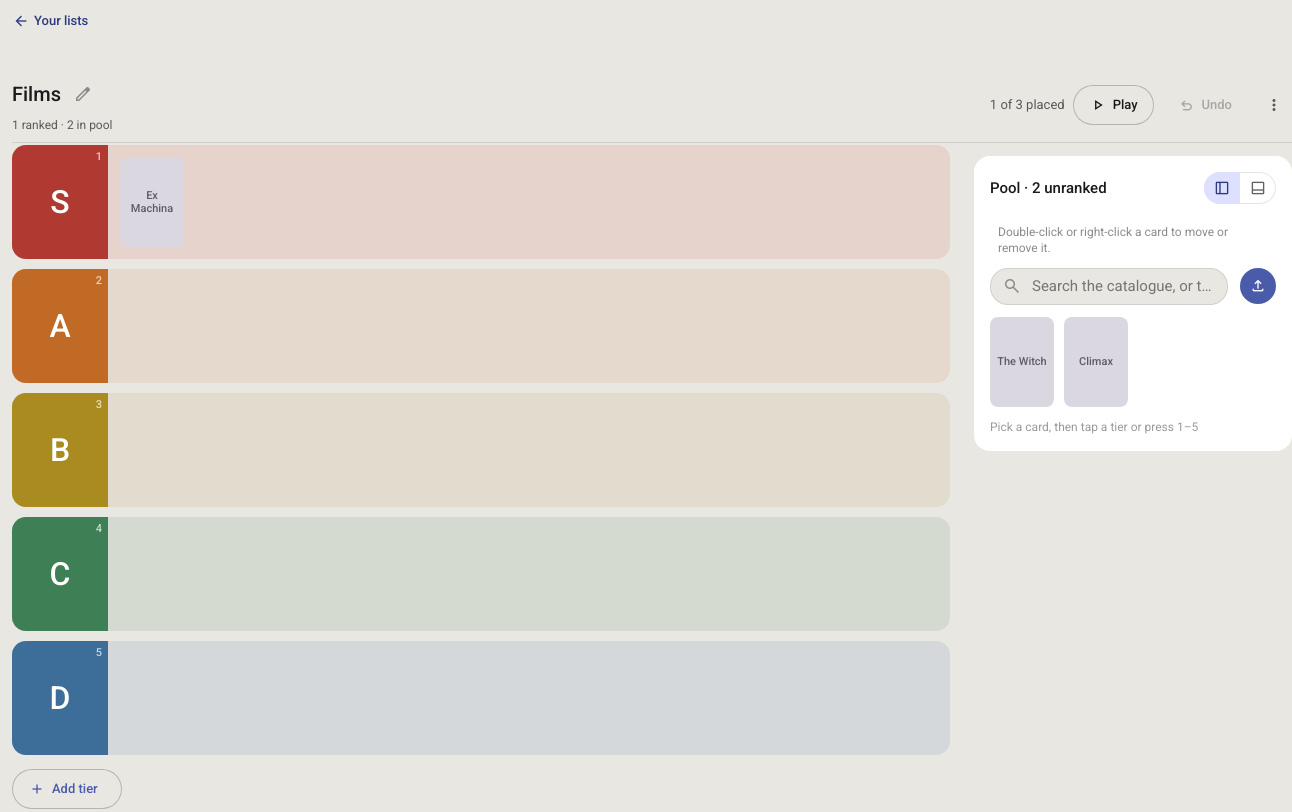
Test: BoardPage › renames the board where it stands
Click the button named "Edit list name": x=83, y=94 [65, 76, 101, 112]
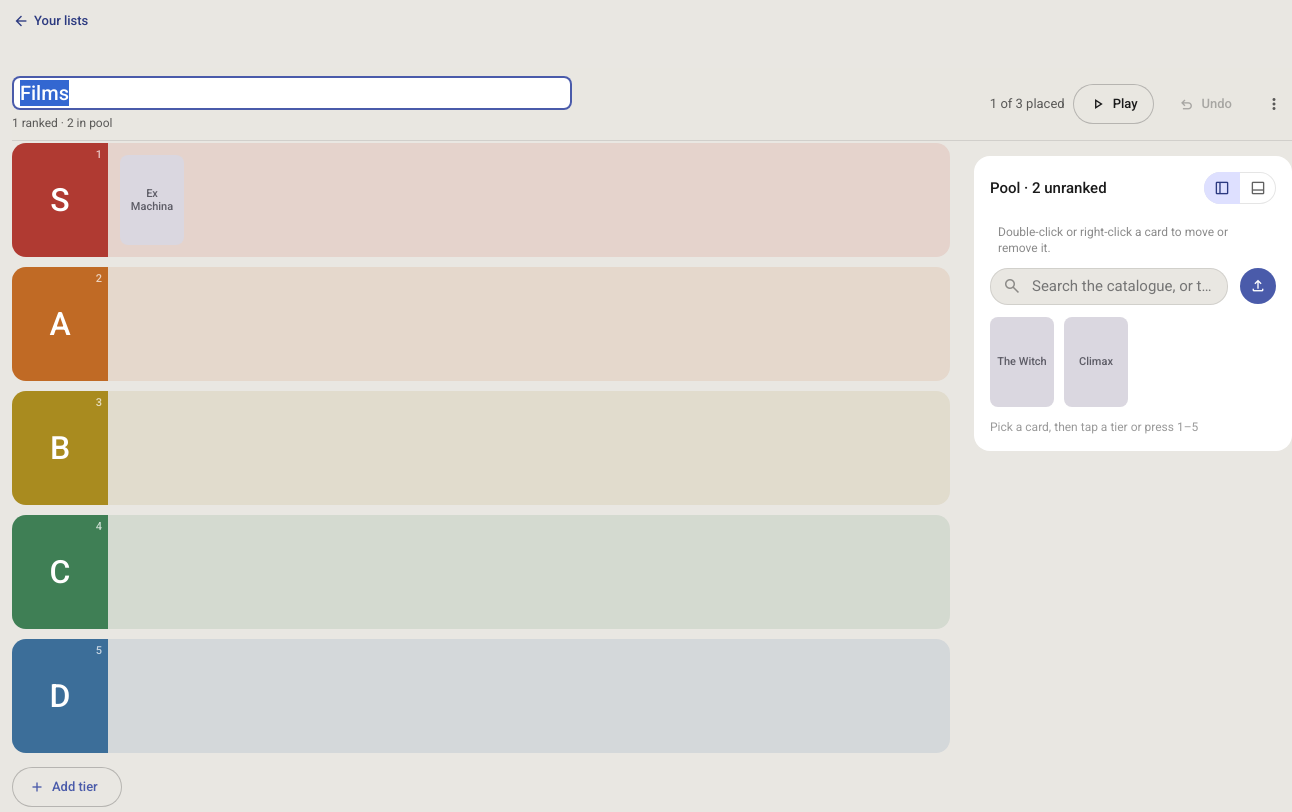
Replace the text in the field named "Title" with "Films I make people watch": x=292, y=93 [12, 76, 572, 110]
Then press Enter
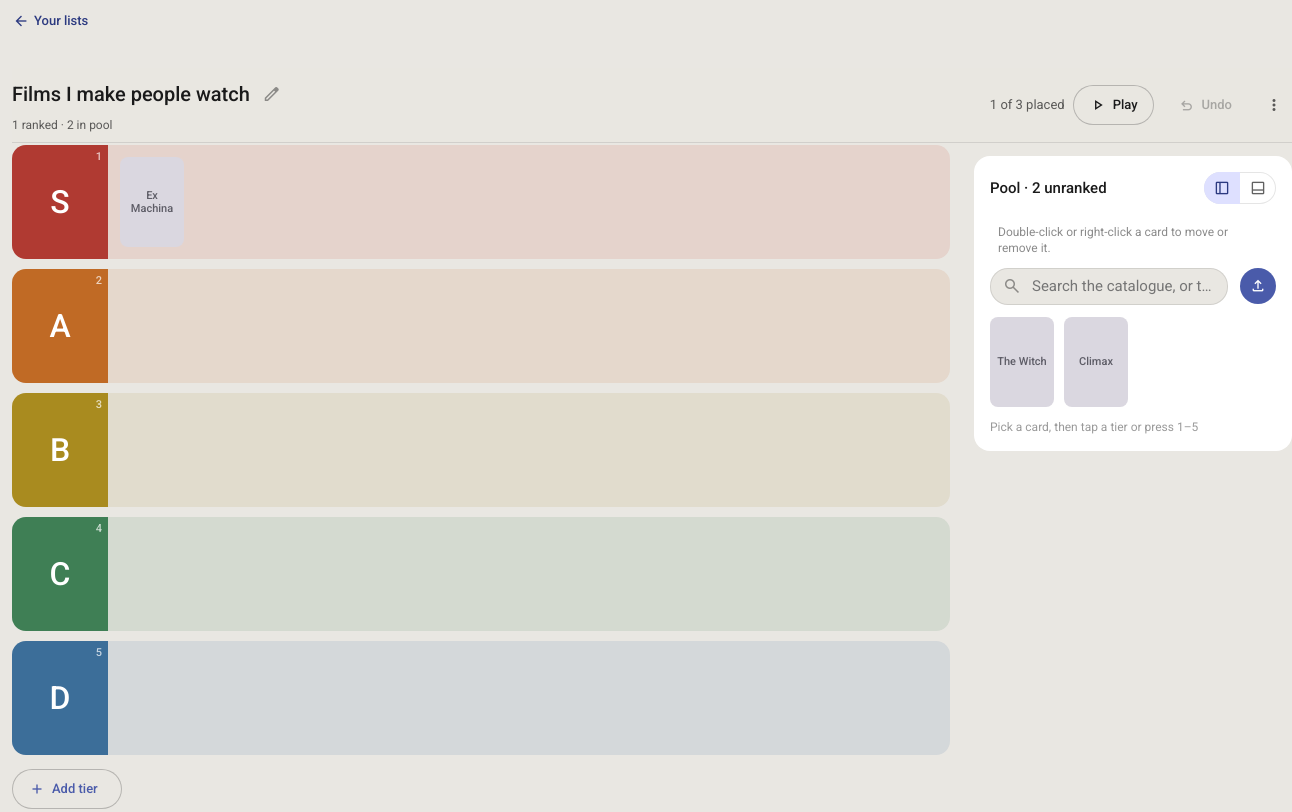
Check: the heading "Films I make people watch" is shown, box [12, 81, 250, 107]
Click the button named "Edit list name": x=272, y=94 [254, 76, 290, 112]
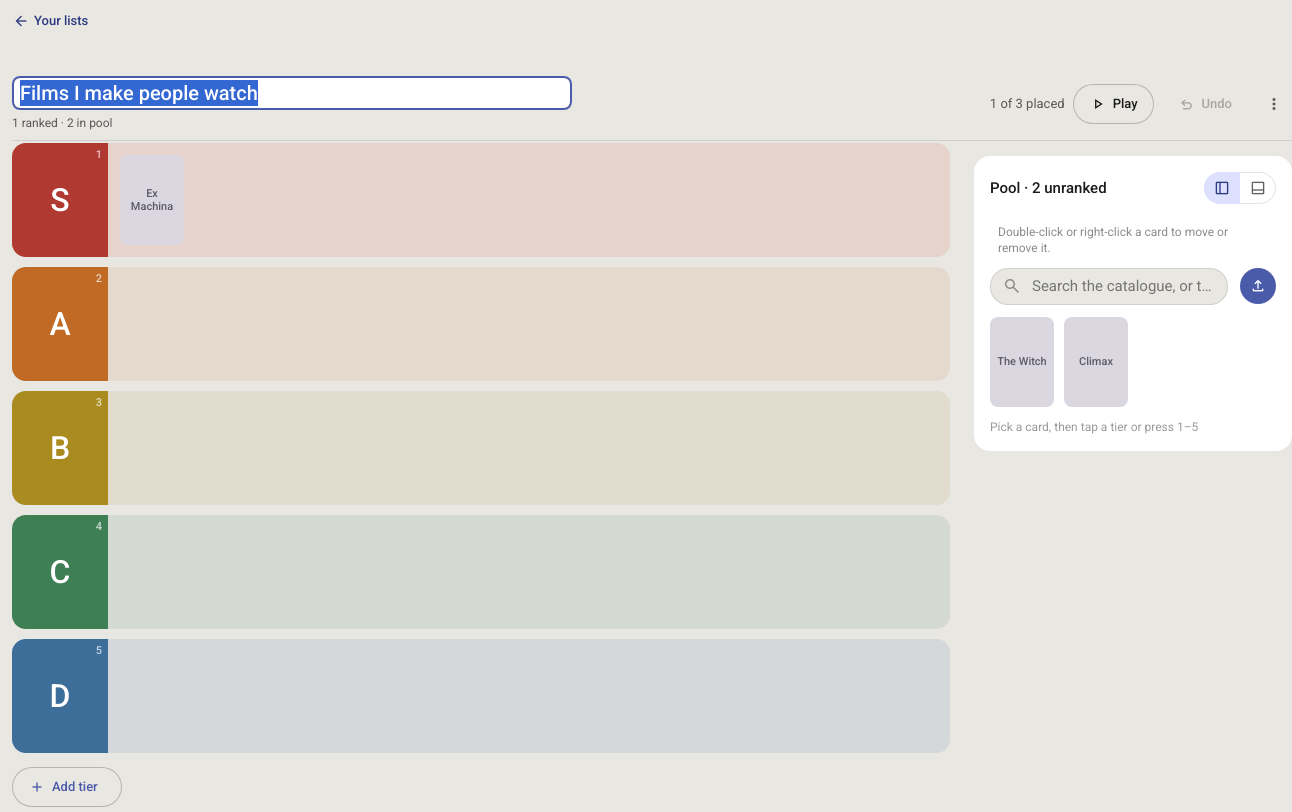
In the field named "Title": x=292, y=93 [12, 76, 572, 110], type "x"
Then press Escape
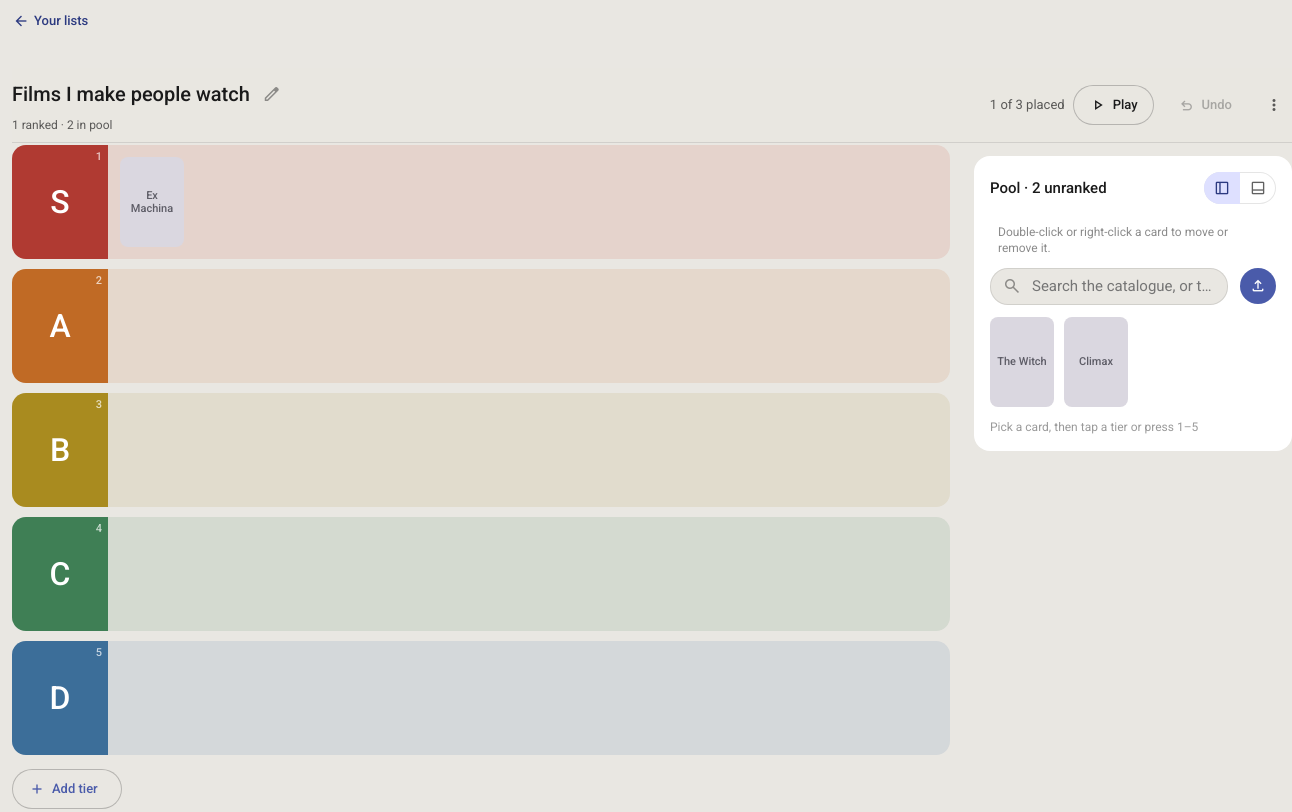
Check: the heading "Films I make people watch" is shown, box [12, 81, 250, 107]
Click the button named "Edit list name": x=272, y=94 [254, 76, 290, 112]
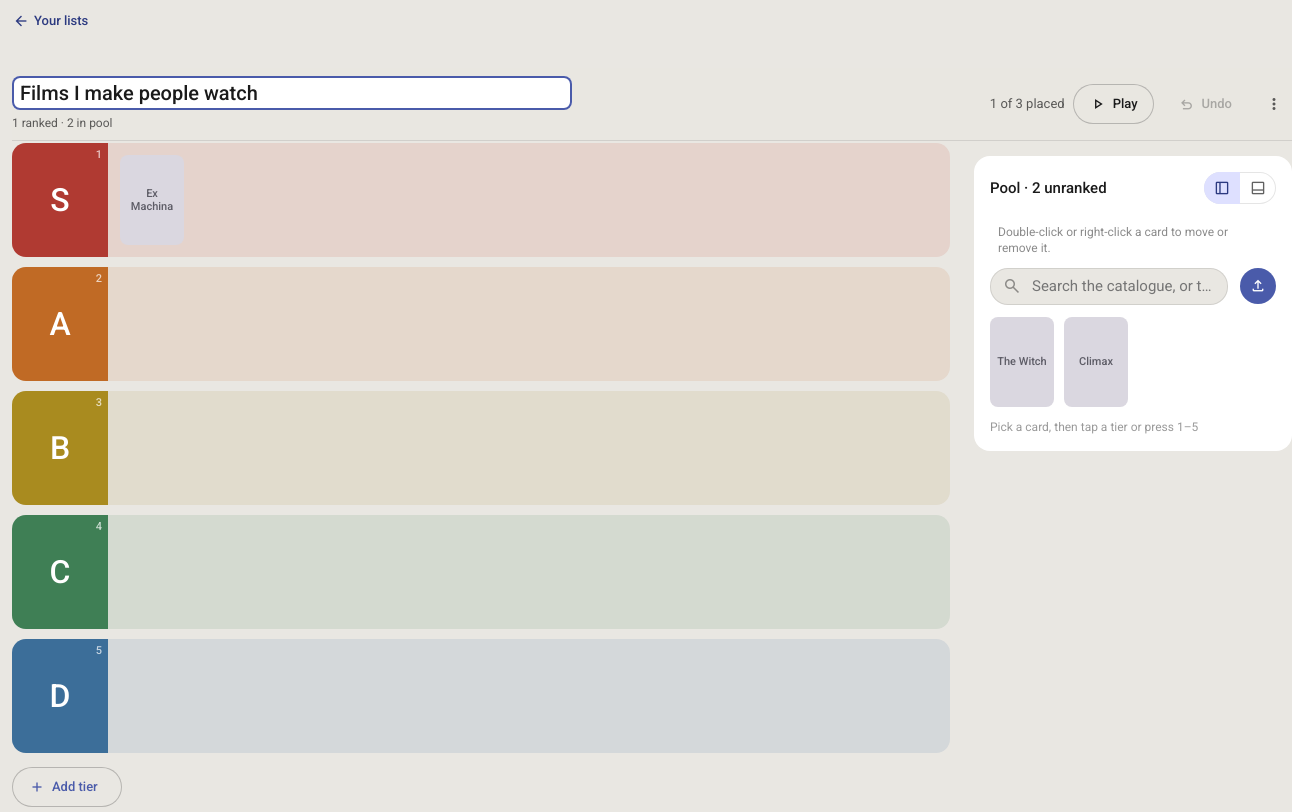
Clear the field named "Title": x=292, y=93 [12, 76, 572, 110]
Press Enter
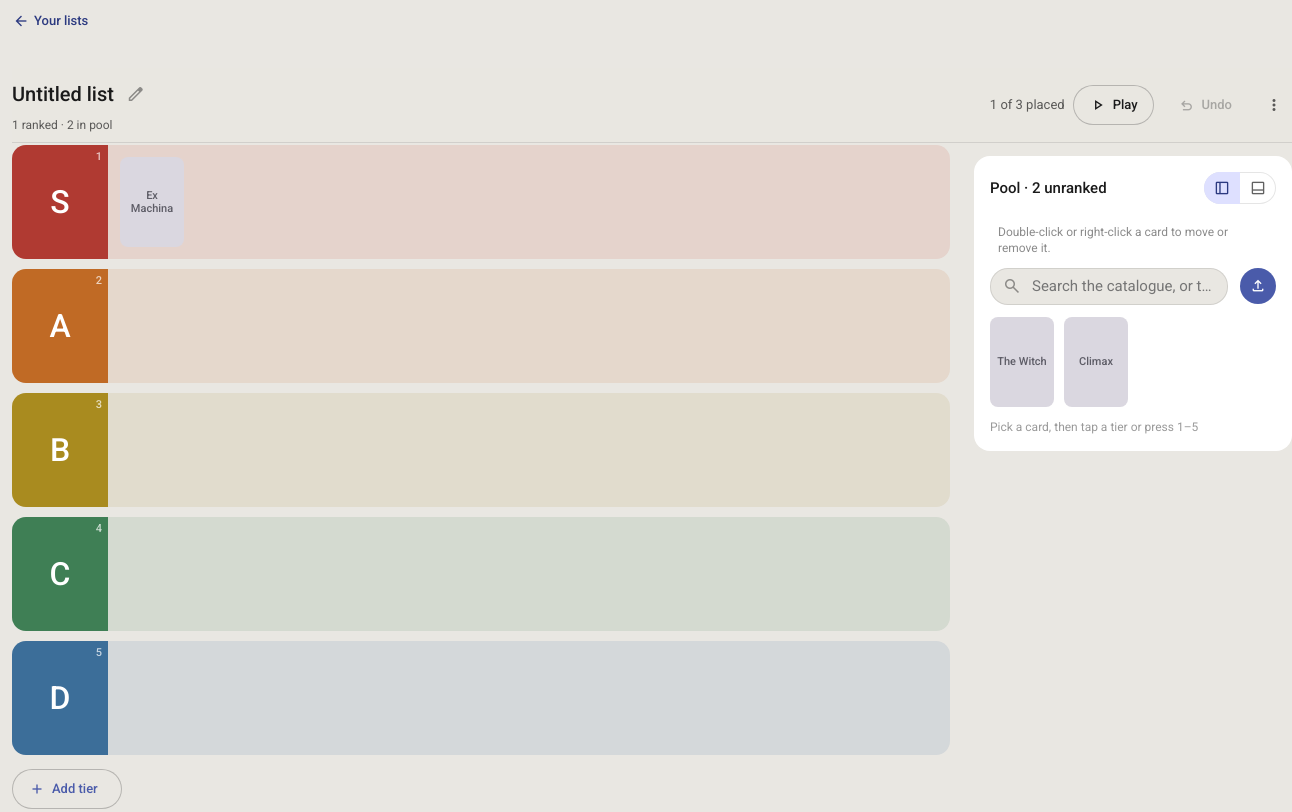
Check: the heading "Untitled list" is shown, box [12, 81, 114, 107]
